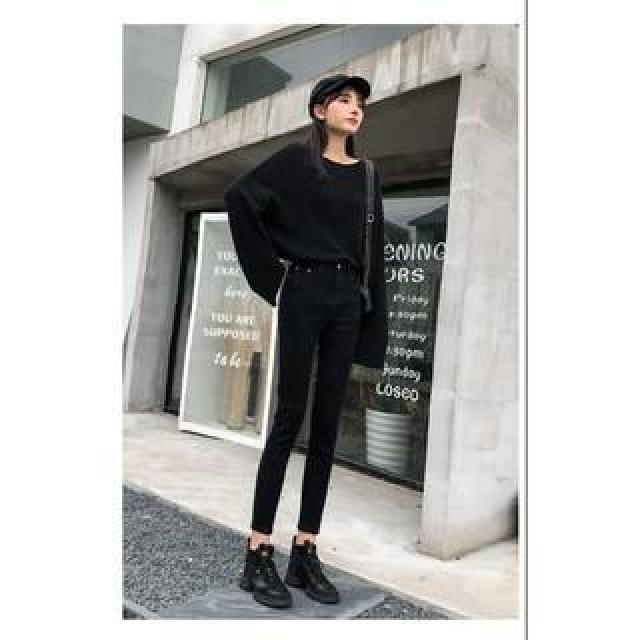pants: (265, 266, 359, 540)
sweater: (223, 143, 387, 293)
